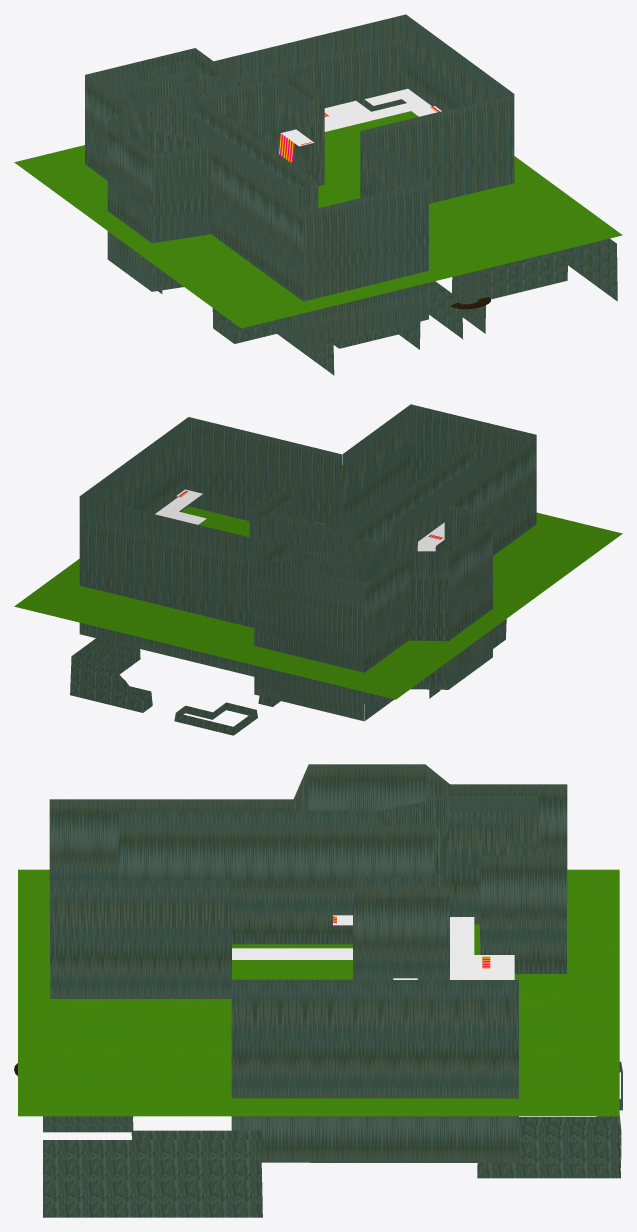
3 views of the same model, one above another, from view 1: azimuth 30°, elevation 25°; view 2: azimuth 150°, elevation 25°; view 3: azimuth 270°, elevation 25° (orthographic). The views are drawn at different scales.
Visible parts, largest first — view 1: polygon1.005, polygon7.006, polygon53, polygon4.005, polygon48, polygon0.007; view 2: polygon1.005, polygon7.006, polygon53, polygon4.005, polygon0.007; view 3: polygon1.005, polygon7.006, polygon53, polygon4.005, polygon0.007, polygon48.
Part boxes in pixels (x1,y1,x2,y2): polygon1.005: (85, 14, 514, 350); polygon7.006: (14, 111, 622, 328); polygon53: (158, 238, 617, 375); polygon4.005: (285, 90, 436, 144); polygon48: (452, 270, 486, 333); polygon0.007: (281, 88, 441, 146); polygon1.005: (79, 404, 536, 721); polygon7.006: (14, 465, 622, 699); polygon53: (70, 619, 506, 735); polygon4.005: (159, 492, 444, 551); polygon0.007: (155, 489, 444, 551); polygon1.005: (49, 764, 567, 1162); polygon7.006: (18, 869, 619, 1116); polygon53: (43, 1061, 622, 1217); polygon4.005: (232, 917, 510, 979); polygon0.007: (232, 915, 514, 979); polygon48: (43, 1116, 133, 1132).
Size of the model in its own units: 126385 by 51229 by 130332.
10 materials, 10 textured.
